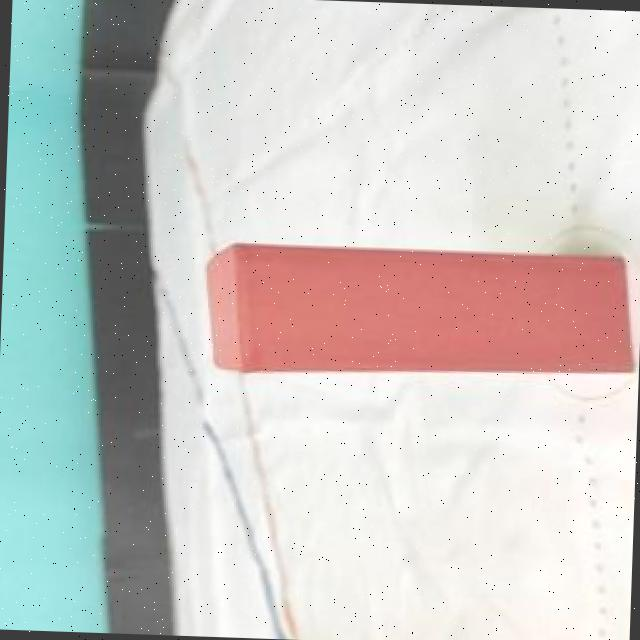redbox: (199, 240, 640, 385)
